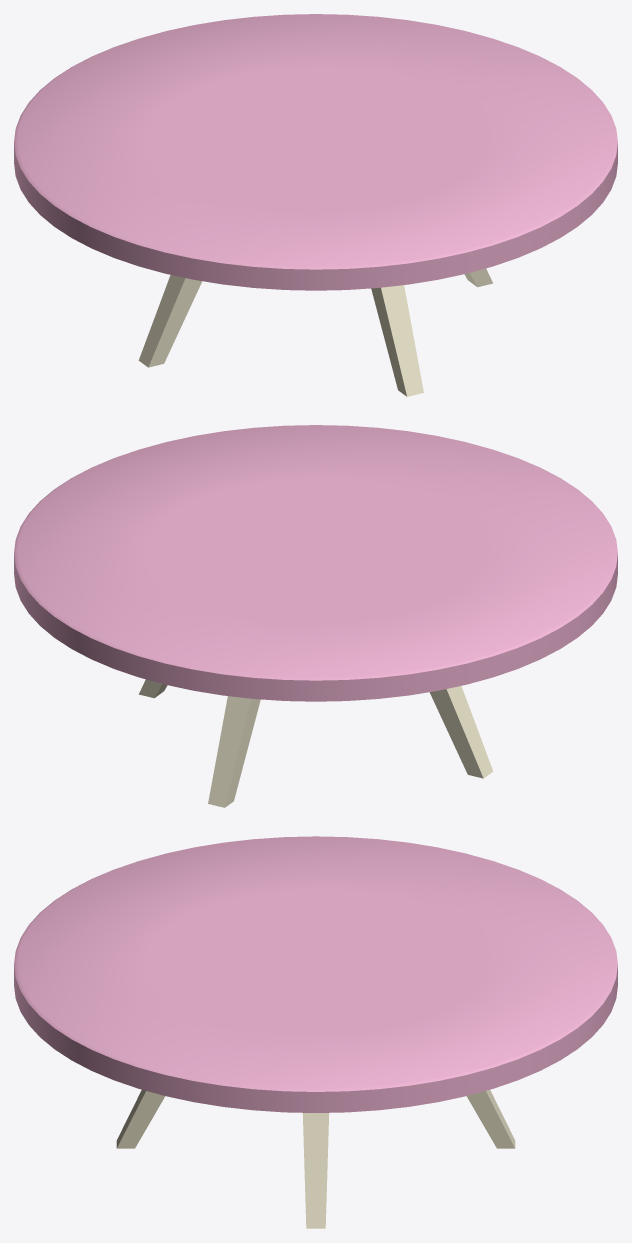
The model's file is table_pink.glb.
The picture shows the model from 3 angles, top to bottom: view 1: azimuth 30°, elevation 25°; view 2: azimuth 150°, elevation 25°; view 3: azimuth 270°, elevation 25°; orthographic projection.
Visible parts, largest first — view 1: Cylinder002, Object002, Object001; view 2: Cylinder002, Object004, Object001; view 3: Cylinder002, Object003, Object002, Object004.
Part boxes in pixels (bbox=[...]): Cylinder002: bbox=[14, 14, 617, 290]; Object002: bbox=[371, 285, 423, 396]; Object001: bbox=[138, 275, 201, 367]; Cylinder002: bbox=[14, 425, 617, 701]; Object004: bbox=[208, 696, 260, 807]; Object001: bbox=[430, 686, 493, 778]; Cylinder002: bbox=[14, 836, 617, 1112]; Object003: bbox=[302, 1113, 329, 1228]; Object002: bbox=[116, 1090, 165, 1148]; Object004: bbox=[466, 1090, 515, 1148].
Size of the model in its own units: 0.1193 by 0.0397 by 0.1193.
Materials: 1 (1 with a texture image).
